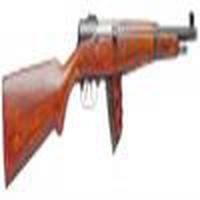gun: (1, 12, 200, 155)
